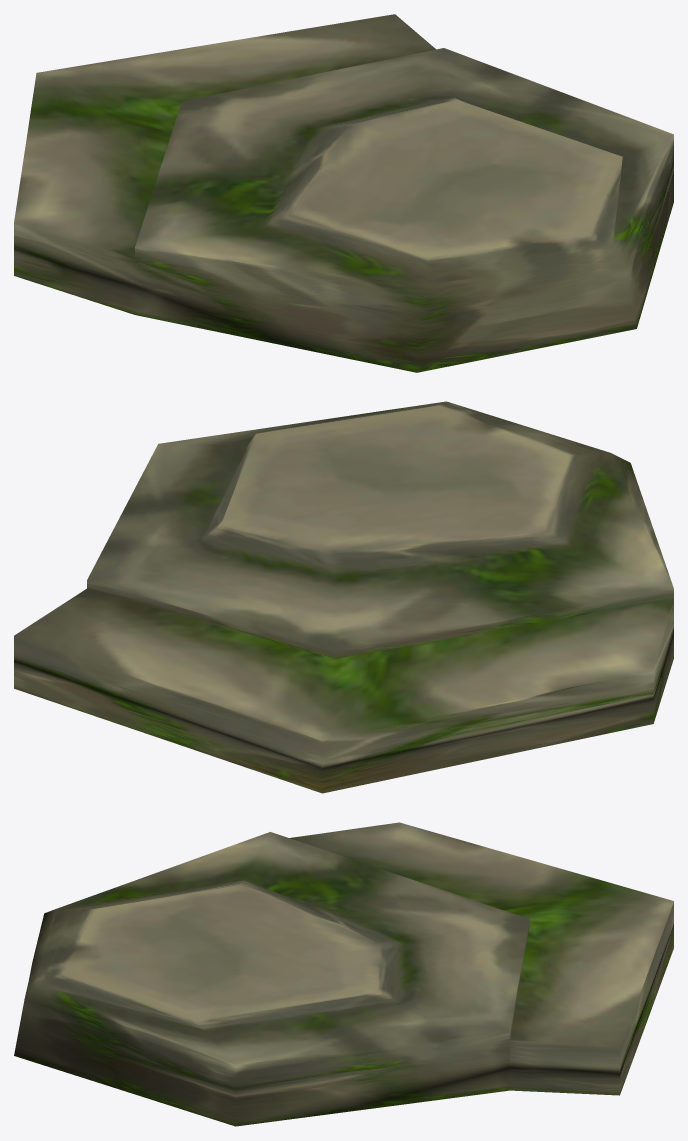
The model's file is RockFormation_4_5 (39).fbx.
3 renders of one model, top to bottom at view 1: azimuth 30°, elevation 25°; view 2: azimuth 150°, elevation 25°; view 3: azimuth 270°, elevation 25°, orthographic. The views are drawn at different scales.
Parts seen in each view (by area): view 1: RockFormation_4_5 (39); view 2: RockFormation_4_5 (39); view 3: RockFormation_4_5 (39).
Boxes of the visible parts, <box> form: RockFormation_4_5 (39): <box>14,14,673,372</box>; RockFormation_4_5 (39): <box>14,401,673,793</box>; RockFormation_4_5 (39): <box>14,822,673,1126</box>.
Size of the model in its own units: 704 by 93.28 by 769.
